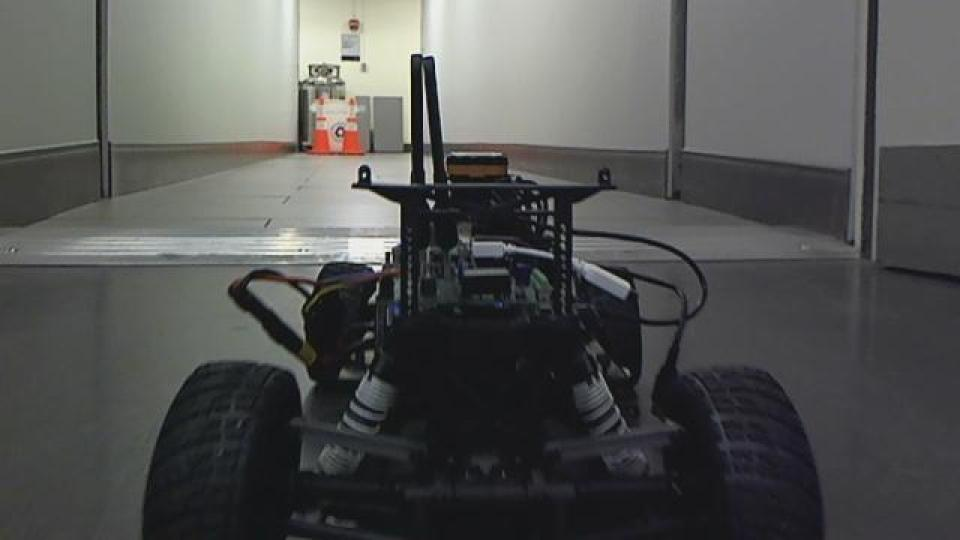car: (136, 51, 828, 537)
